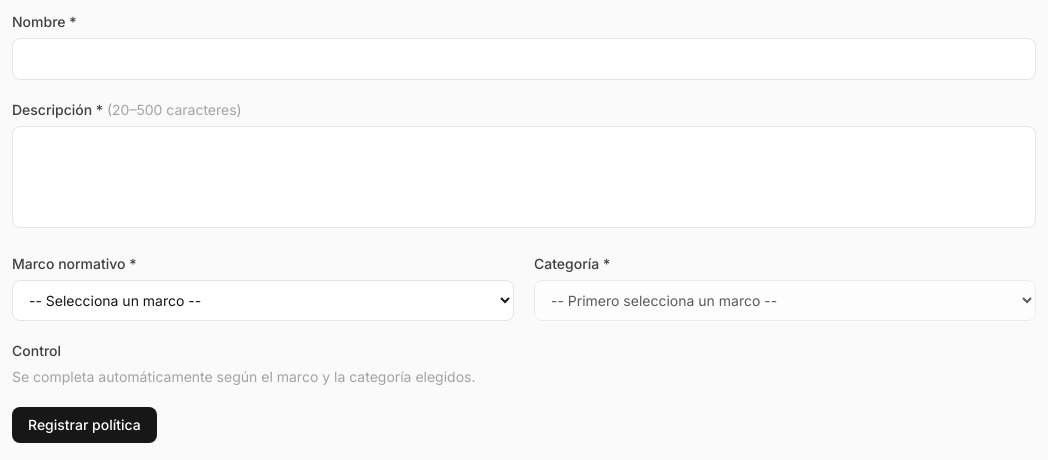
Test case: PolicyCreateForm › picking a framework restricts the category options to what its catalog defines (DevSecOps has no SQL Injection/XSS)
The width and height of the screenshot is (1048, 460).
Select "DevSecOps" in the dropdown labelled "Marco normativo *" at [263, 300], box x1=12 y1=280 x2=514 y2=321
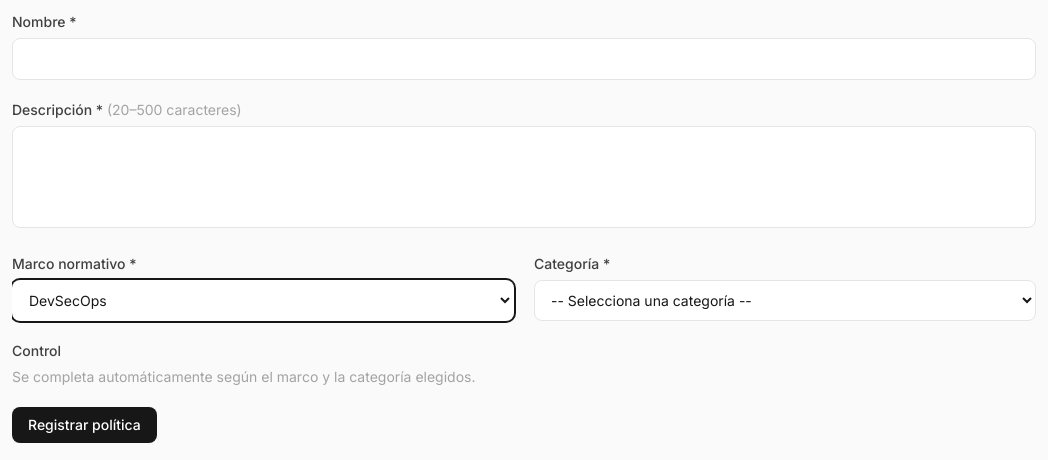
expect the dropdown labelled "Categoría *" is enabled: met, box x1=534 y1=280 x2=1036 y2=321
